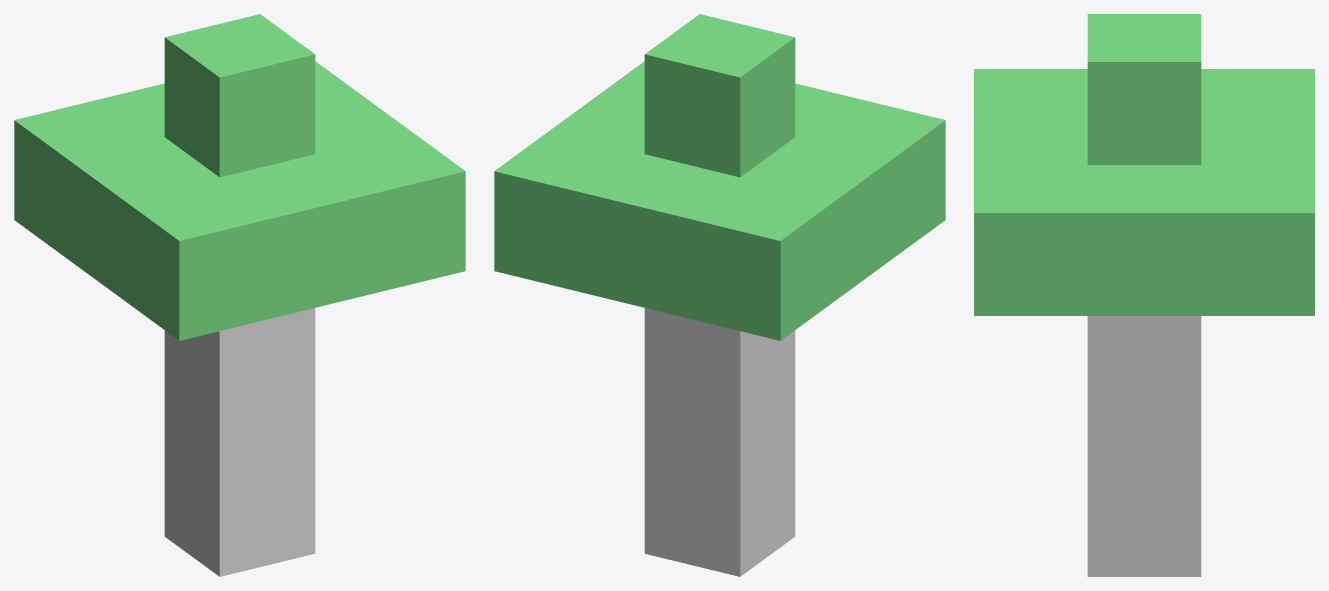
The model's file is fungusGREEN.fbx.
The picture shows the model from 3 angles, left to right: view 1: azimuth 30°, elevation 25°; view 2: azimuth 150°, elevation 25°; view 3: azimuth 270°, elevation 25°; orthographic projection. The views are drawn at different scales.
Visible parts, largest first — view 1: Cube.003; view 2: Cube.003; view 3: Cube.003.
Boxes of the visible parts, x1,y1,x2,y2 form: Cube.003: (14,14,465,576); Cube.003: (494,14,945,576); Cube.003: (974,14,1314,576).
Size of the model in its own units: 300 by 500 by 300.
